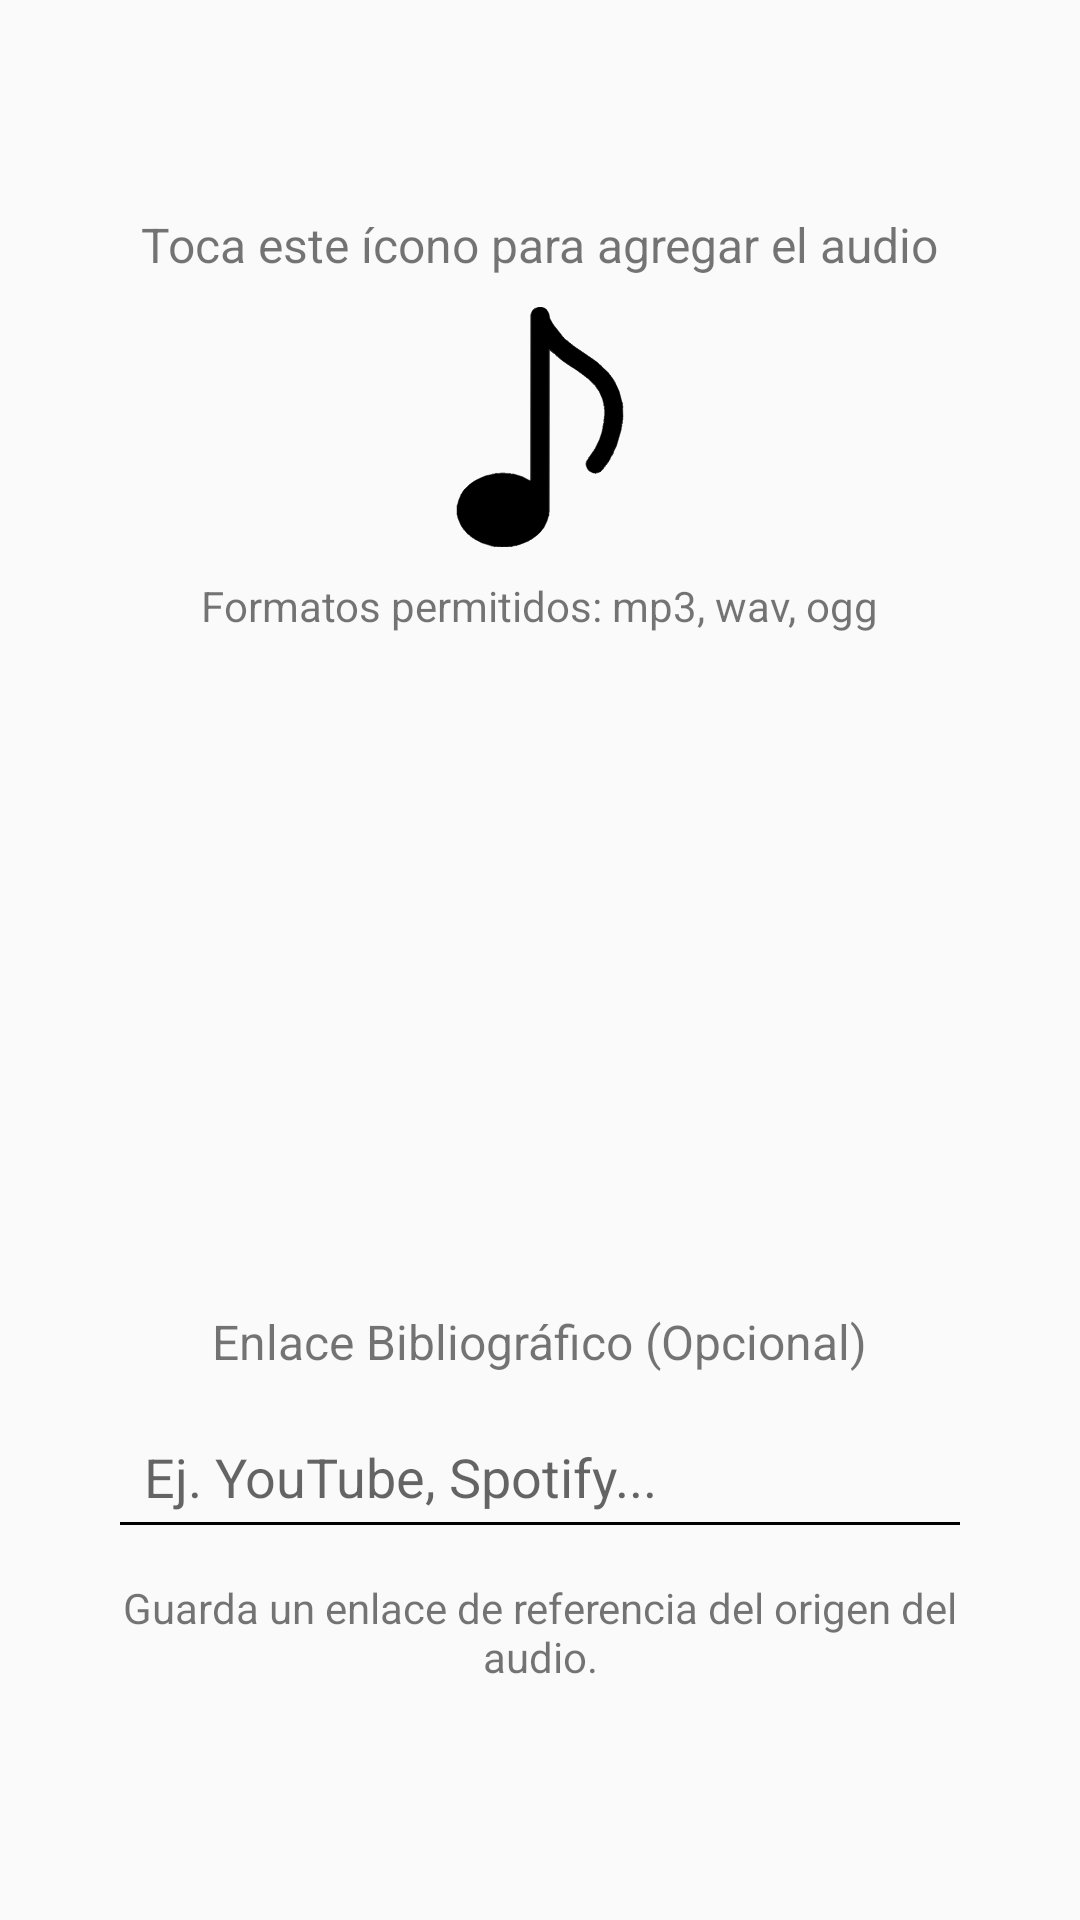

Icons on this 1080*1920 Android screen, each with its box as bbox=(x1, y1, x2, y2):
Seleccionar archivo: bbox=(456, 307, 624, 547)
